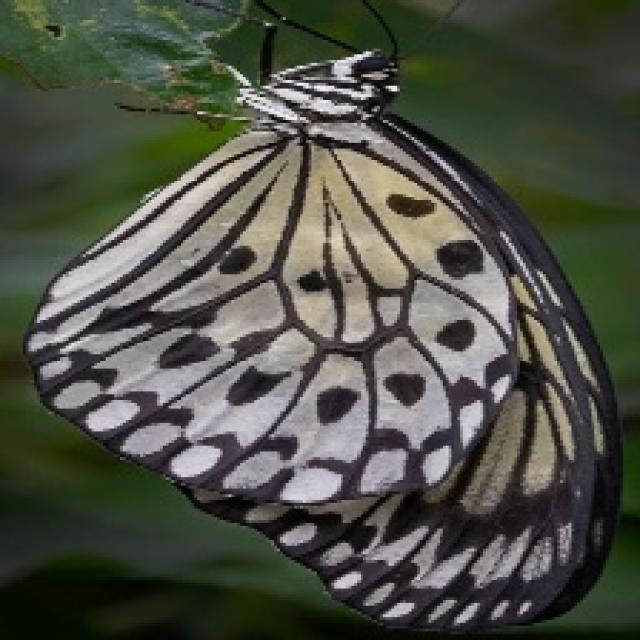butterfly: (20, 0, 623, 631)
